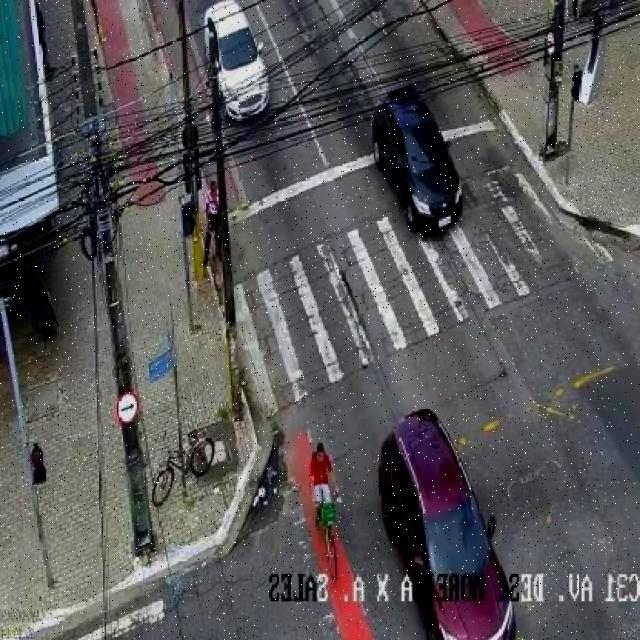Car: (376, 406, 517, 640), (368, 85, 465, 238), (200, 0, 272, 120)
Cycle: (150, 426, 213, 511), (311, 491, 339, 570)
